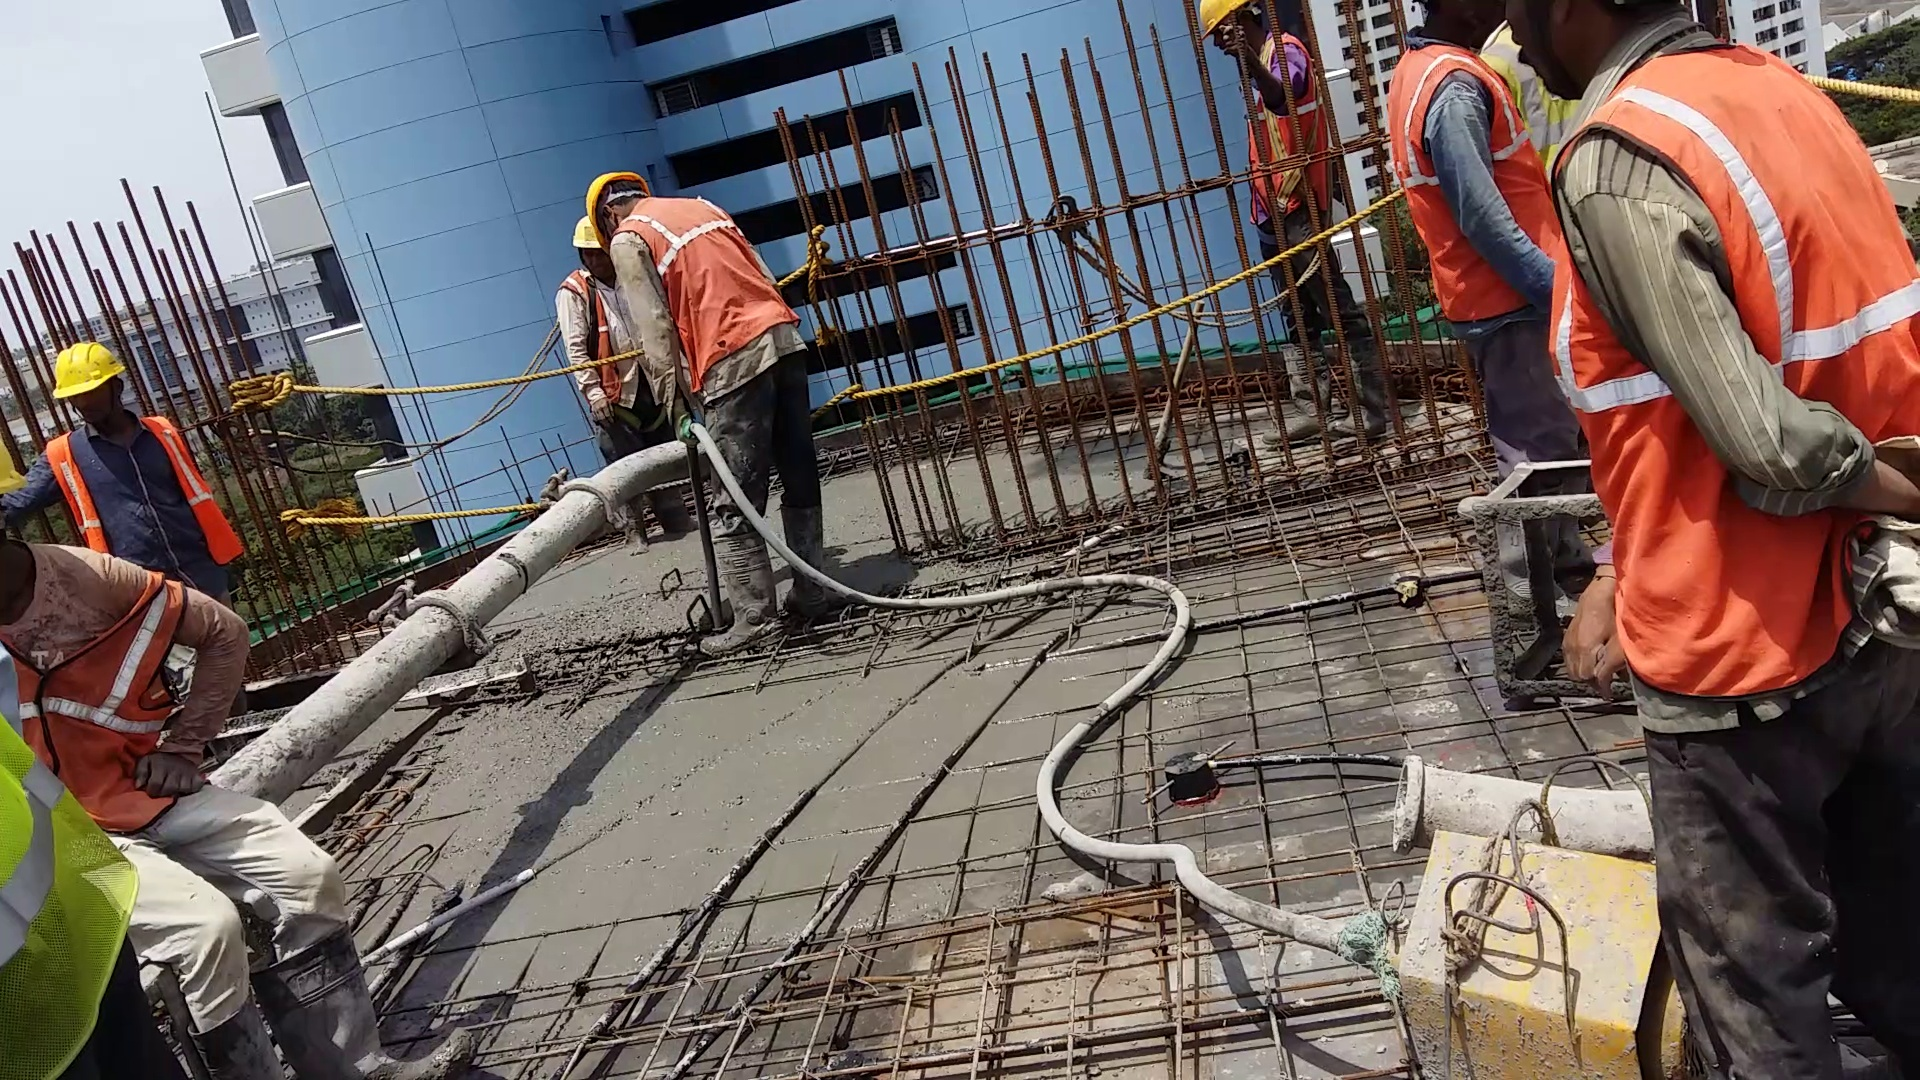NoHardhat: (1544, 42, 1920, 709), (1360, 22, 1565, 344)
SAFE: (585, 149, 808, 411), (36, 338, 247, 585)
